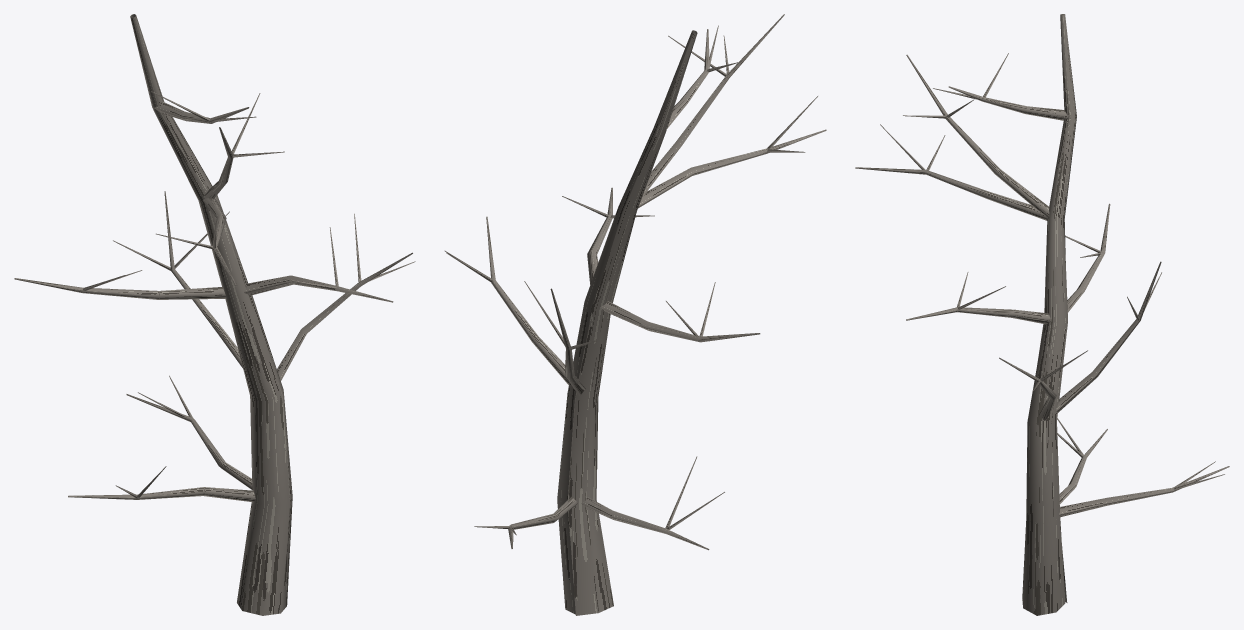
File: flora_dead.glb
3 views of the same model, side by side, from view 1: azimuth 30°, elevation 25°; view 2: azimuth 150°, elevation 25°; view 3: azimuth 270°, elevation 25° (orthographic). The views are drawn at different scales.
Parts seen in each view (by area): view 1: flora_dead; view 2: flora_dead; view 3: flora_dead.
Boxes of the visible parts, box(x1,y1,x2,y2) form: flora_dead: box(14, 14, 415, 615); flora_dead: box(444, 14, 826, 615); flora_dead: box(855, 14, 1229, 615).
Size of the model in its own units: 4.12 by 6.77 by 4.24.
Materials: 1 (1 with a texture image).
